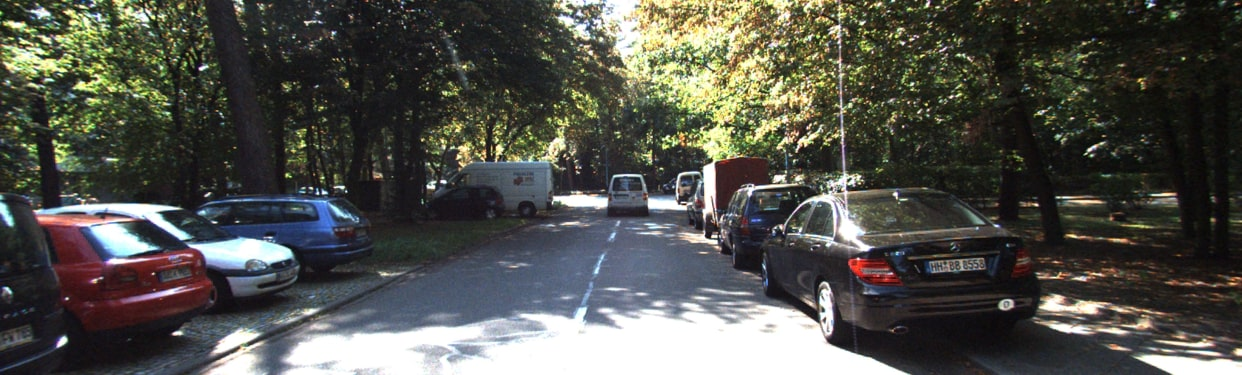car: (779, 200, 1056, 345), (40, 211, 229, 340), (234, 194, 380, 267), (716, 172, 804, 271), (209, 222, 306, 301), (434, 162, 562, 216), (694, 147, 768, 234), (601, 169, 658, 219)
